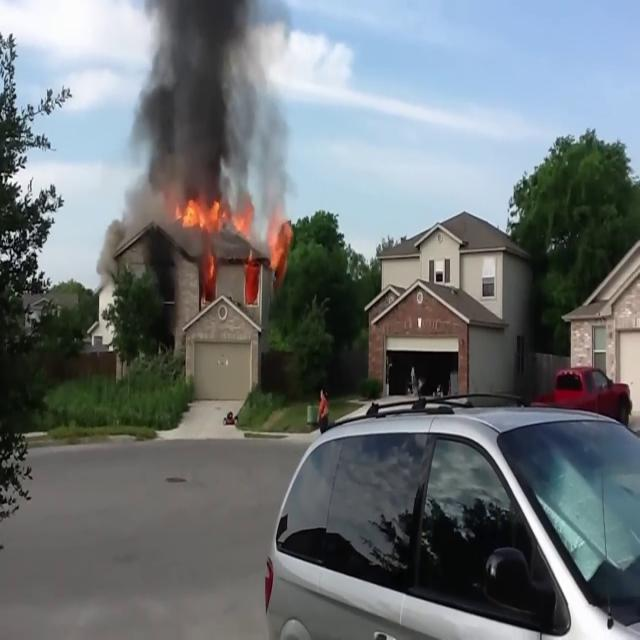Fire: (176, 190, 230, 233), (268, 214, 292, 278), (200, 241, 218, 307)
Smoke: (128, 0, 286, 198)
